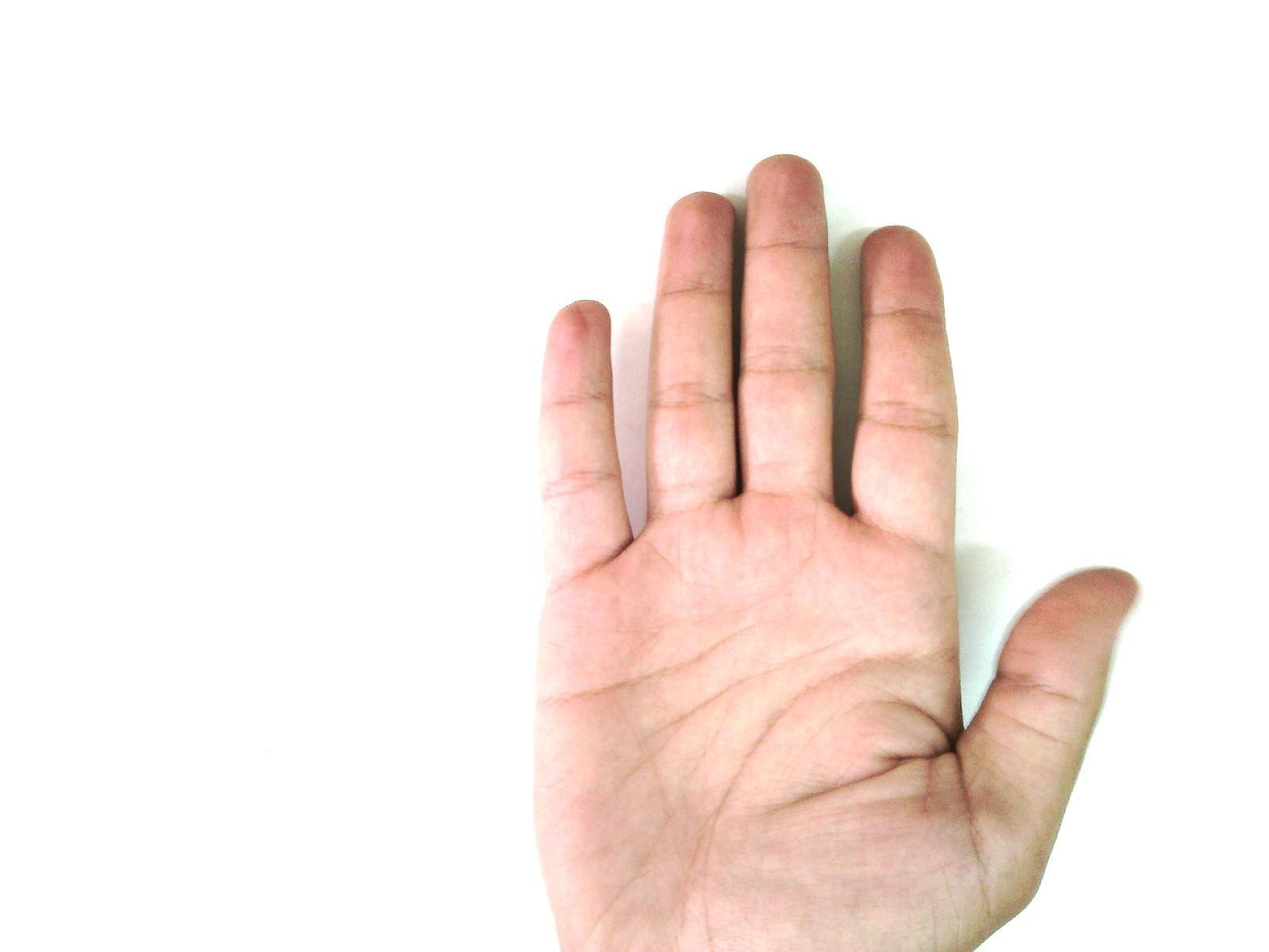open_palm: (528, 153, 1141, 952)
